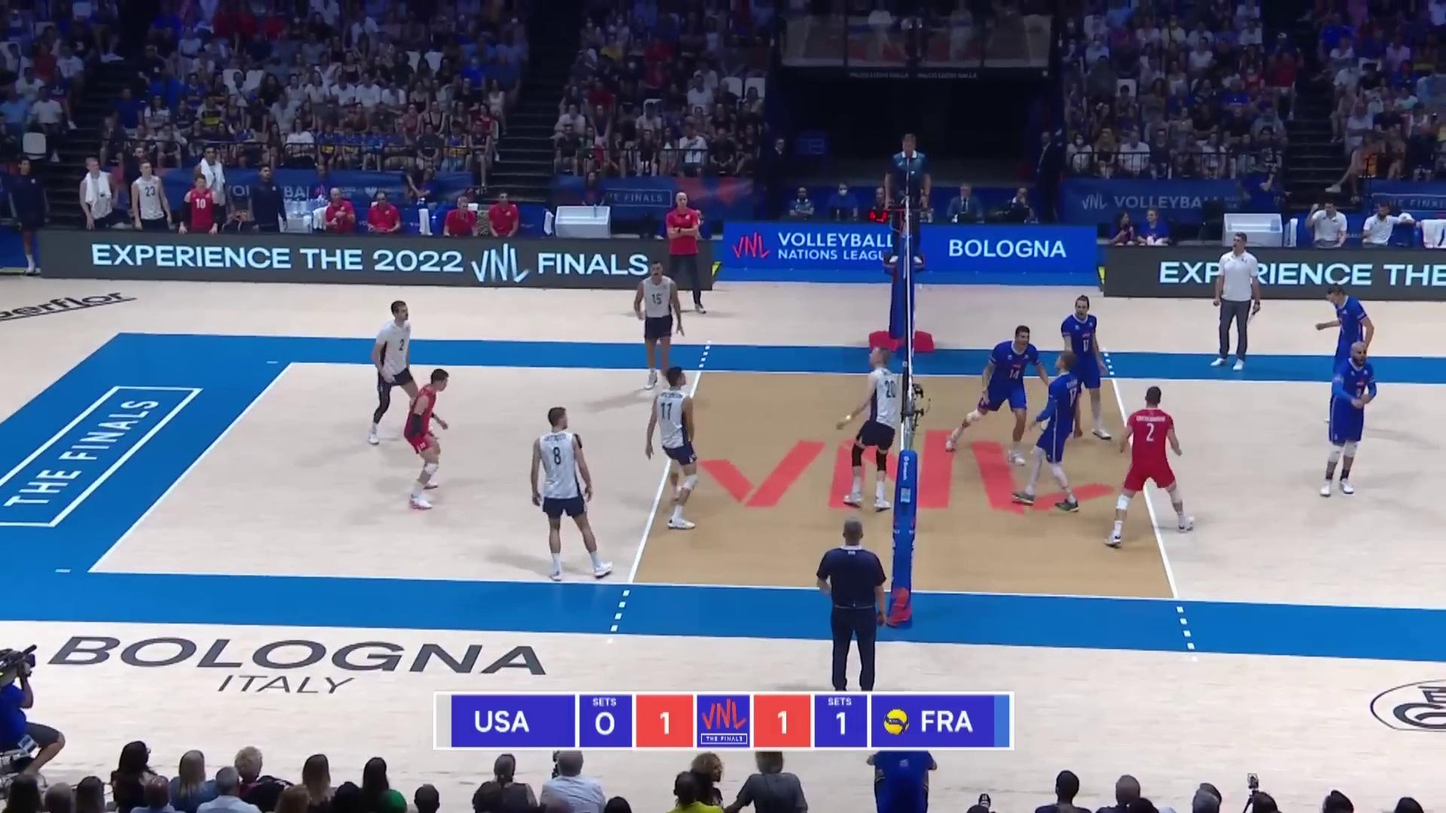player: (525, 404, 608, 578), (1102, 386, 1192, 543), (943, 326, 1042, 459), (1020, 350, 1092, 512), (833, 344, 898, 511), (646, 368, 705, 531), (1313, 284, 1375, 426), (1322, 341, 1378, 497), (1059, 299, 1117, 445), (629, 261, 688, 393), (369, 301, 419, 446), (402, 368, 452, 510)
refree: (813, 519, 891, 694), (882, 134, 928, 263)
